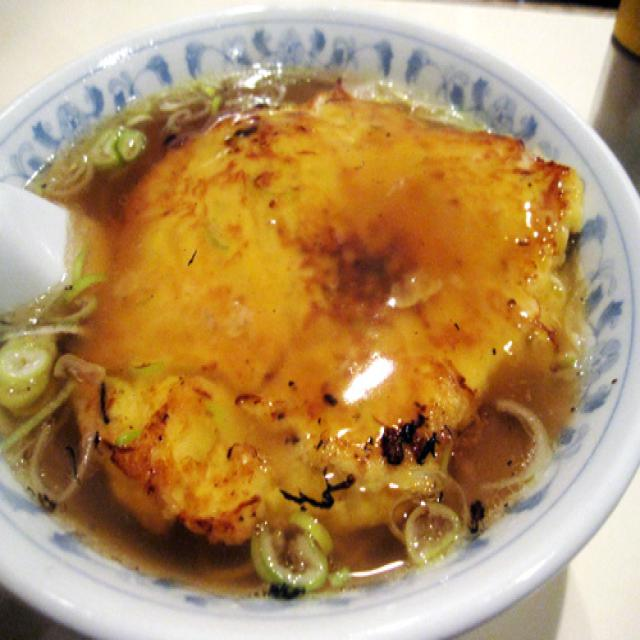面条主食: (44, 51, 602, 572)
